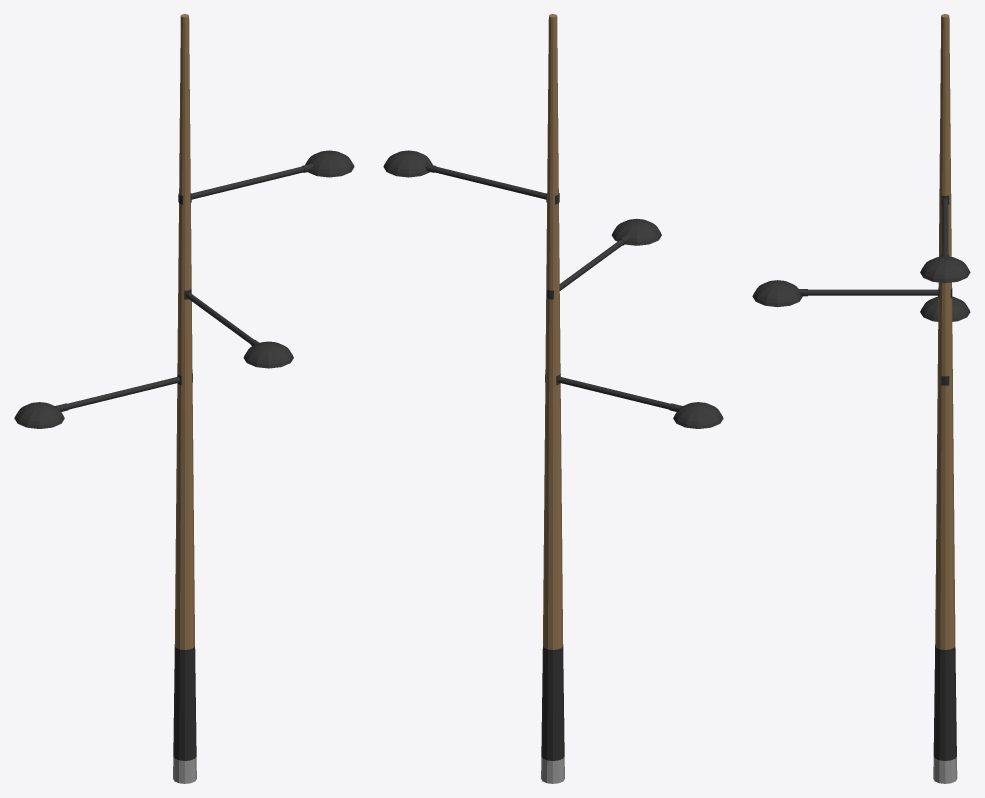
The model's file is street light with two lights on each side 2.fbx.
The picture shows the model from 3 angles, left to right: view 1: azimuth 30°, elevation 25°; view 2: azimuth 150°, elevation 25°; view 3: azimuth 270°, elevation 25°; orthographic projection.
Parts seen in each view (by area): view 1: street l. body.004; view 2: street l. body.004; view 3: street l. body.004.
Boxes of the visible parts, x1,y1,x2,y2 form: street l. body.004: [14, 14, 354, 783]; street l. body.004: [383, 14, 723, 783]; street l. body.004: [752, 14, 970, 783].
Size of the model in its own units: 2592 by 5667 by 1468.
